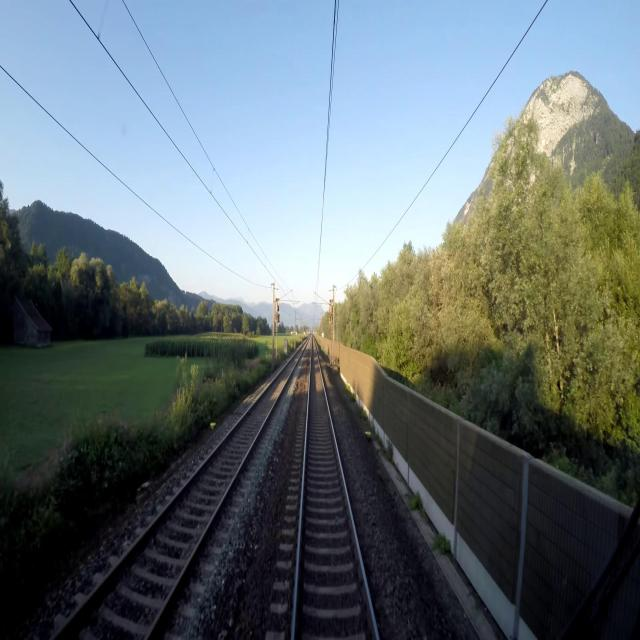rail-track: (56, 352, 299, 639), (295, 344, 375, 639)
